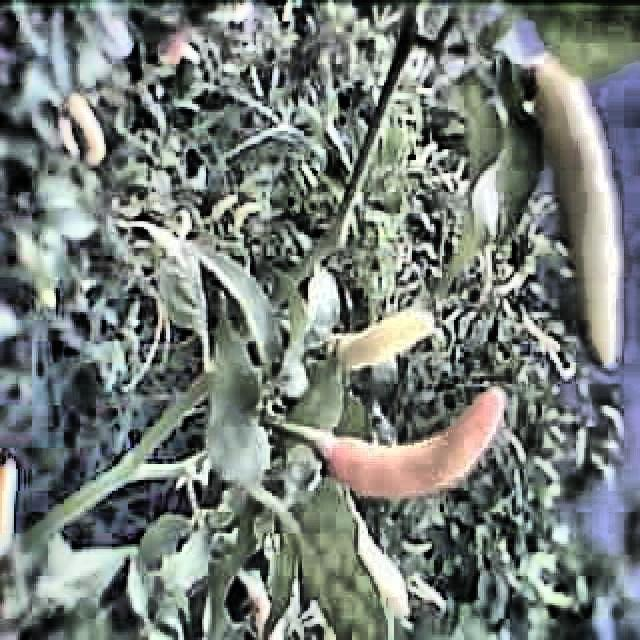Cabai: (300, 381, 510, 513)
